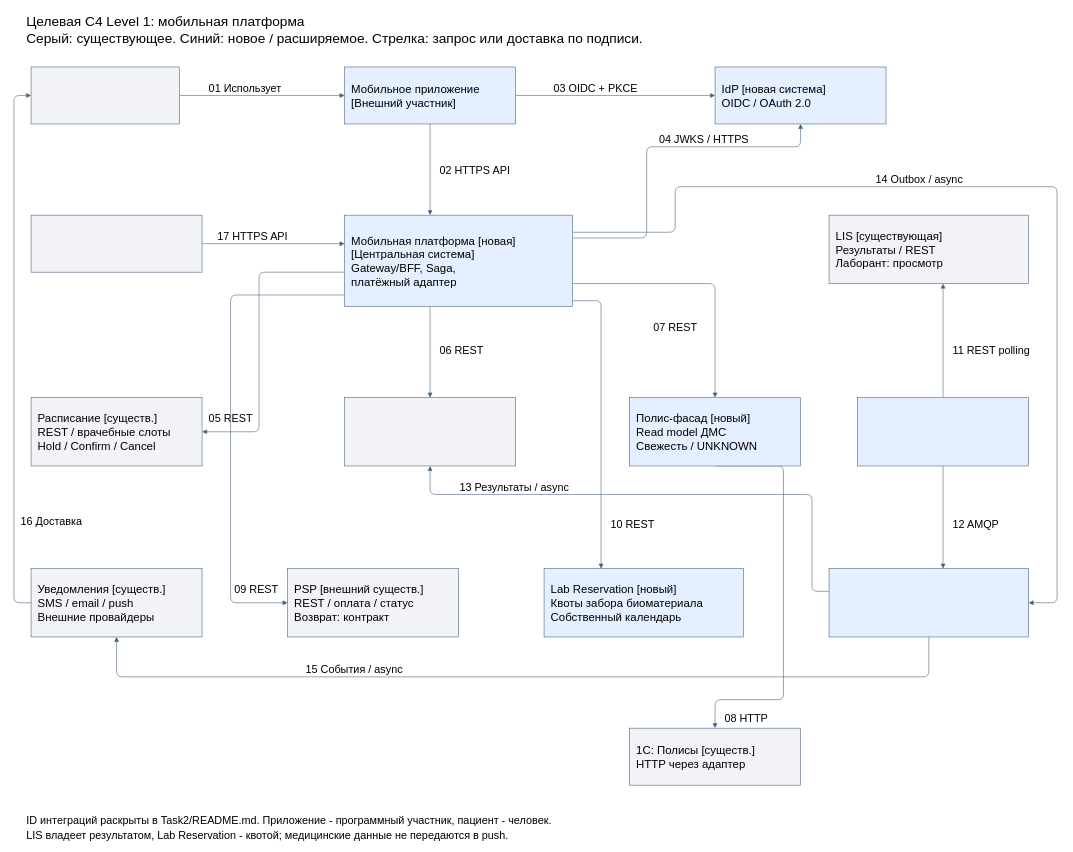
This 1073x852 diagram has some shape labels left out. The box of each missing label's shape, as (x1, y1, x2, y2) in pixels:
CRM [существующая] Карточка / анализы REST / read model: (344, 397, 516, 466)
LIS Integration [новый] Захват / spool / outbox Контроль полноты: (857, 397, 1029, 466)
RabbitMQ [расширяется] Async AMQP/TLS Раздельные очереди: (828, 568, 1029, 637)
Веб-портал [существ.] Перевод на общий API: (30, 215, 202, 272)
Пациент [Человек]: (30, 66, 179, 124)
